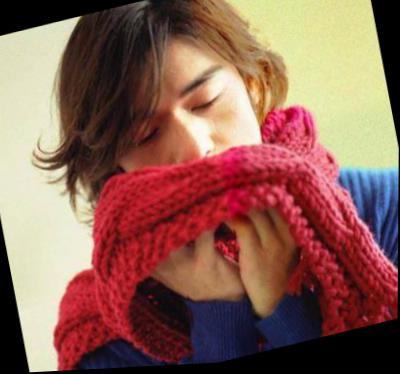WRONG: (98, 51, 276, 245)
